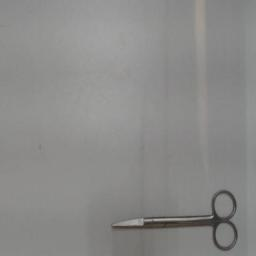Curved Mayo Scissors: (106, 186, 242, 254)
